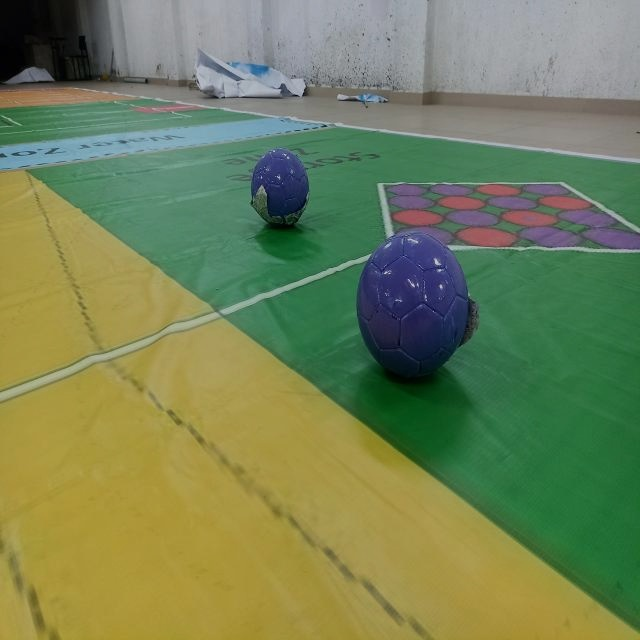purple_ball: (349, 214, 471, 390), (250, 137, 314, 233)
